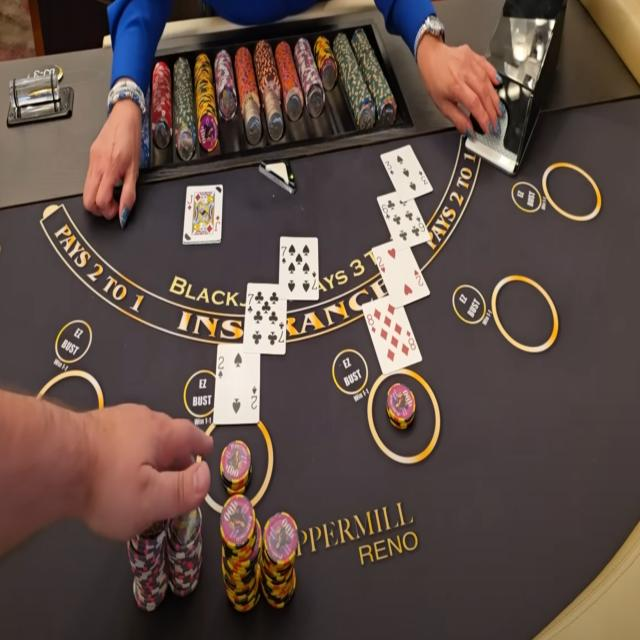2: (217, 354, 226, 370), (376, 255, 384, 268)
3: (385, 160, 392, 170)
6: (382, 203, 388, 214)
7: (248, 292, 255, 305), (281, 244, 287, 257)
8: (366, 313, 374, 326)
J: (187, 193, 193, 205)
